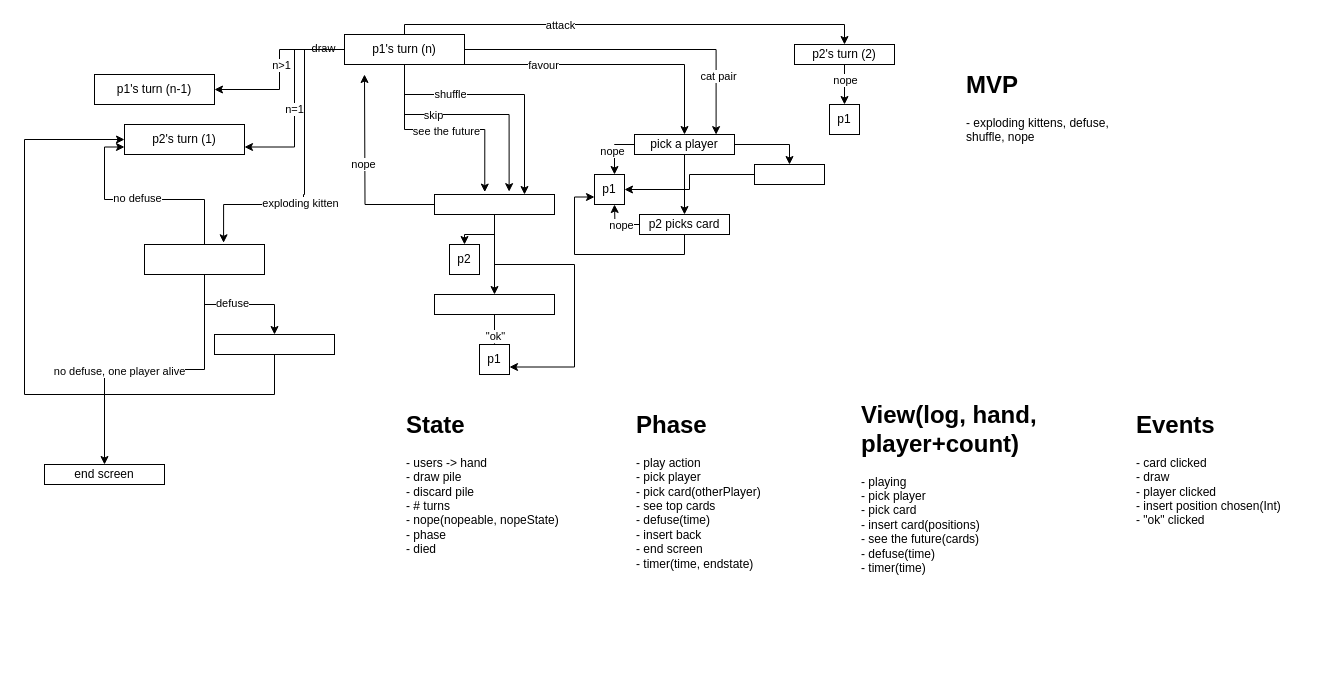
Image size: 1332x695. Some labels were removed from this diagram. Here are the shapes that lost their labels. From the top down, the box of each, then its label:
(754, 164, 824, 184): nope timer
(434, 194, 554, 214): nope timer (2s)
(144, 244, 264, 274): defuse screen
(434, 294, 554, 314): see top cards
(214, 334, 334, 354): insert back
